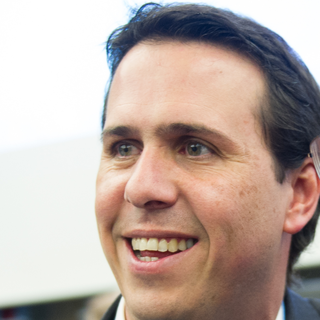eye: (166, 133, 224, 165), (104, 135, 144, 165)
